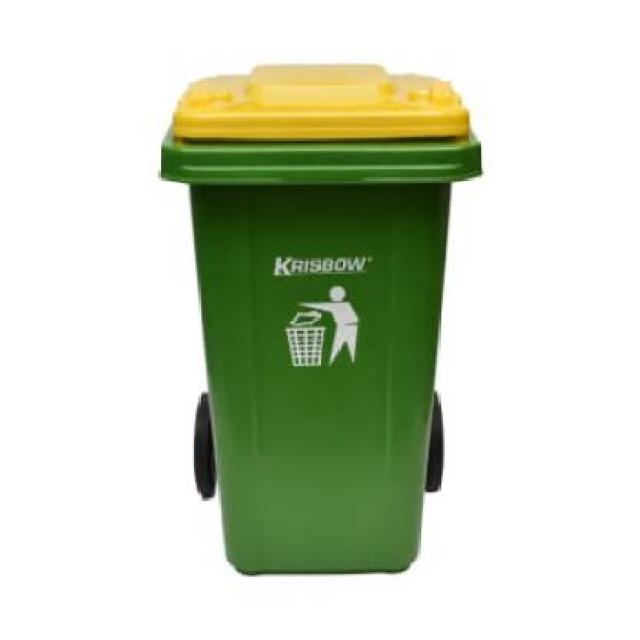garbage container: (140, 55, 494, 590)
